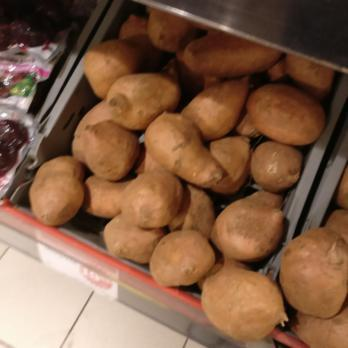Sweet potato: (190, 50, 283, 342), (95, 26, 184, 249), (279, 226, 347, 318), (246, 86, 325, 147), (30, 154, 86, 226)
